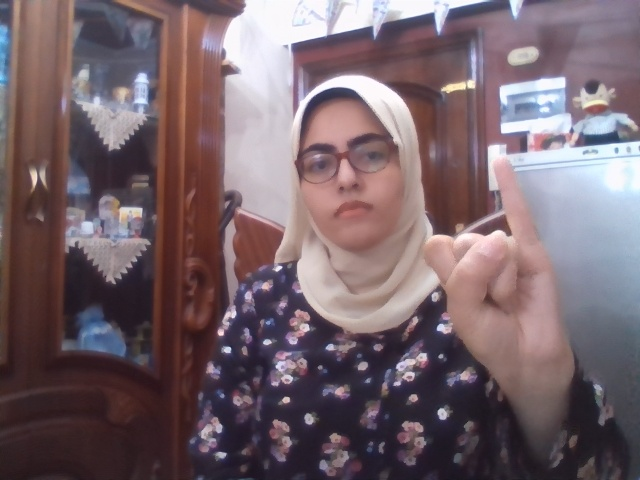I: (423, 156, 569, 372)
